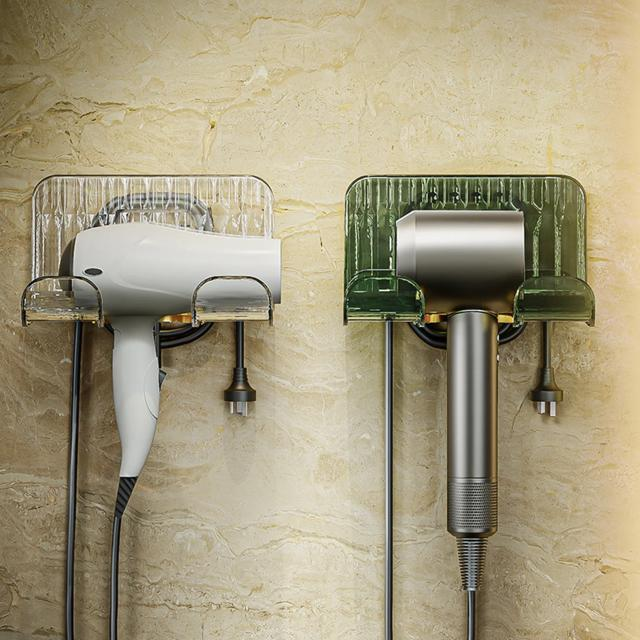dryer: (57, 205, 288, 628), (385, 193, 540, 615)
